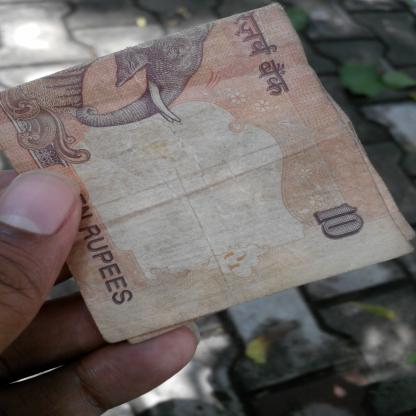Old10Back: (0, 1, 416, 347)
